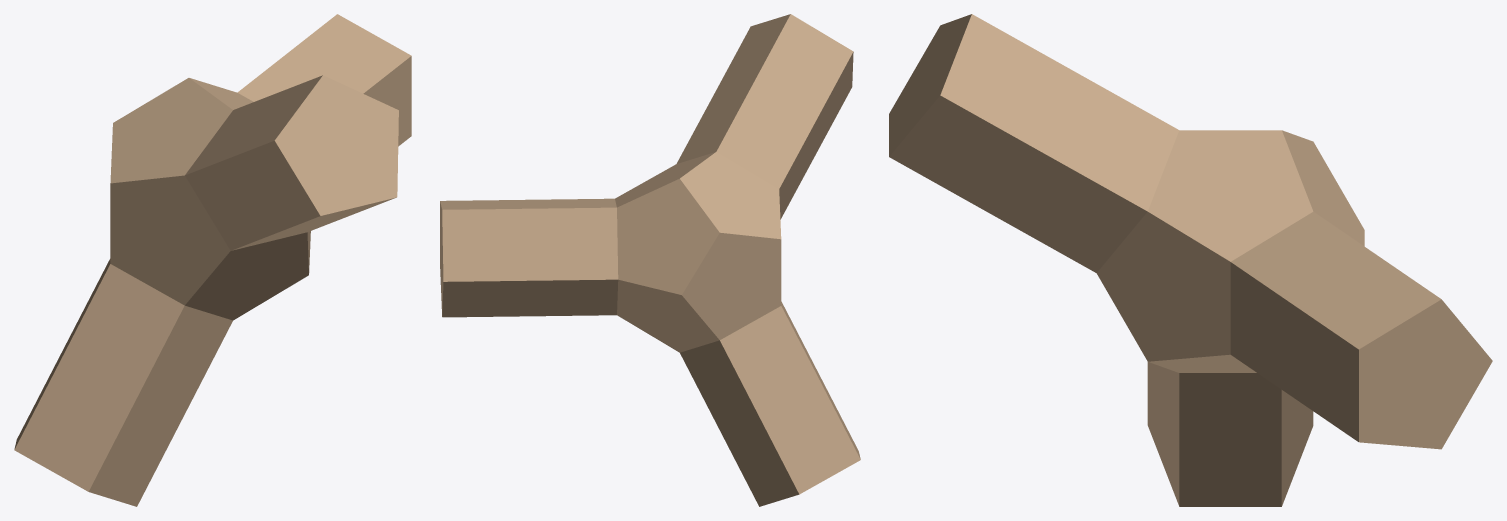
The model's file is stuff.fbx.
The picture shows the model from 3 angles, left to right: view 1: azimuth 30°, elevation 25°; view 2: azimuth 150°, elevation 25°; view 3: azimuth 270°, elevation 25°; orthographic projection. The views are drawn at different scales.
Visible parts, largest first — view 1: pSolid1; view 2: pSolid1; view 3: pSolid1.
Part boxes in pixels (<box>): pSolid1: <box>14,14,411,506</box>; pSolid1: <box>440,14,860,506</box>; pSolid1: <box>889,14,1492,506</box>.
Bounding box in the file's own units: 1.54 × 1.54 × 1.54.
